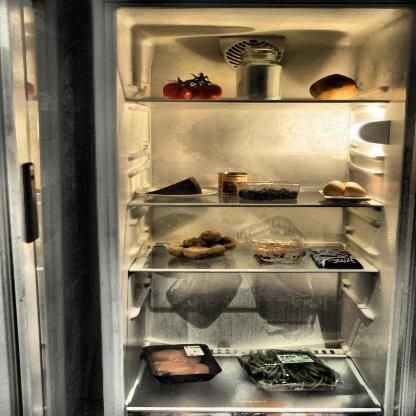blueberries: (238, 185, 303, 202)
cheese: (144, 176, 203, 197)
chicken: (146, 346, 219, 382)
chocolate: (309, 245, 367, 270)
corn: (218, 172, 249, 197)
eggs: (323, 179, 370, 197)
green_beans: (238, 348, 347, 385)
potato: (164, 230, 240, 258)
shrimp: (253, 241, 304, 263)
sweet_potato: (306, 74, 362, 102)
tomato: (165, 80, 223, 100)
